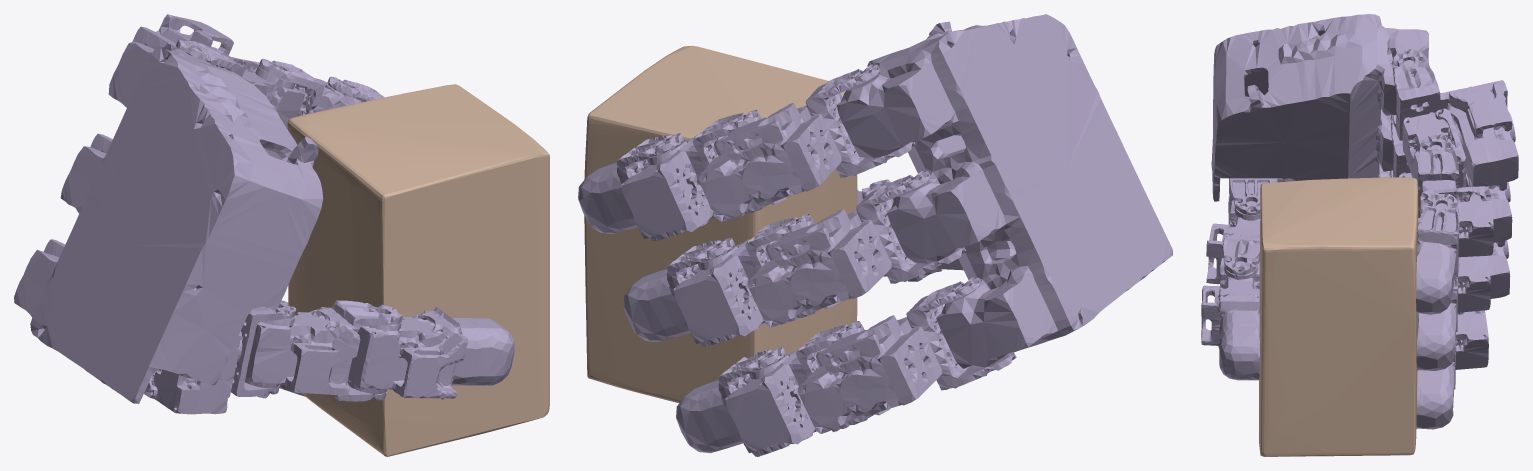
The model's file is case-05.glb.
The picture shows the model from 3 angles, left to right: view 1: azimuth 30°, elevation 25°; view 2: azimuth 150°, elevation 25°; view 3: azimuth 270°, elevation 25°; orthographic projection. The views are drawn at different scales.
Parts seen in each view (by area): view 1: world, surface.obj; view 2: world, surface.obj; view 3: world, surface.obj.
Part boxes in pixels (<box>): world: <box>14,14,514,414</box>; surface.obj: <box>287,84,549,456</box>; world: <box>578,14,1172,456</box>; surface.obj: <box>584,45,857,403</box>; world: <box>1201,14,1518,429</box>; surface.obj: <box>1259,177,1418,456</box>.
Size of the model in its own units: 0.2042 by 0.1803 by 0.1532.
